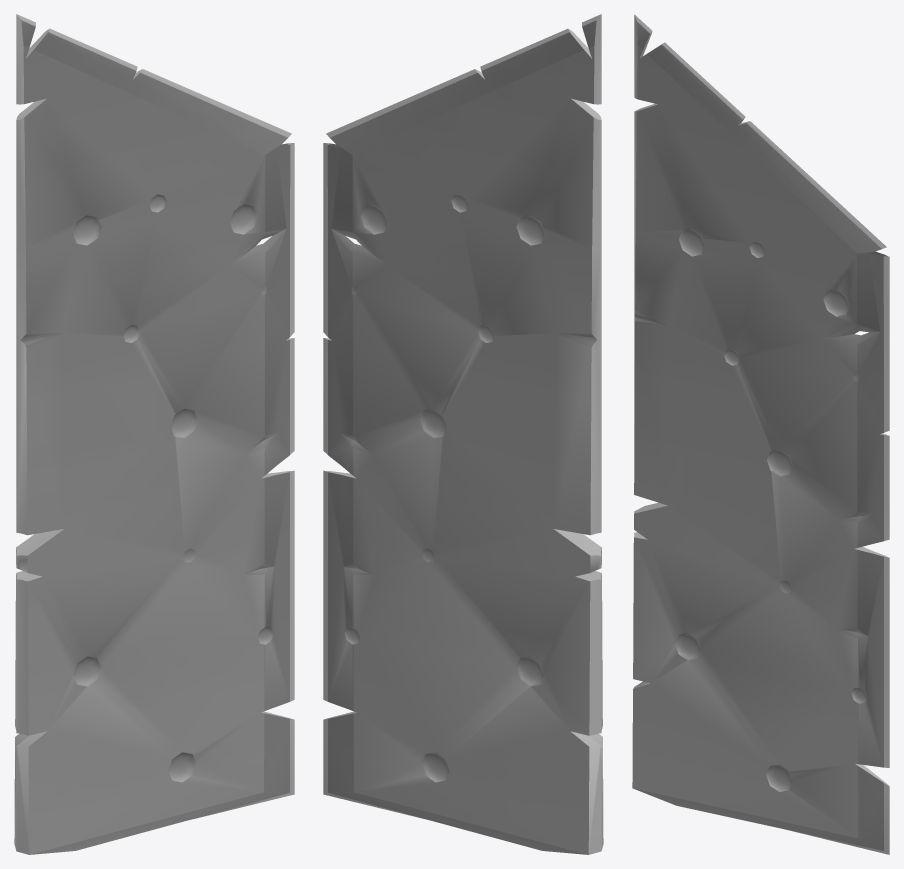
File: stone_blade_bubbles_057.glb
3 renders of one model, left to right at view 1: azimuth 30°, elevation 25°; view 2: azimuth 150°, elevation 25°; view 3: azimuth 330°, elevation 25°, orthographic. The views are drawn at different scales.
Parts seen in each view (by area): view 1: stone_blade_bubbles.057; view 2: stone_blade_bubbles.057; view 3: stone_blade_bubbles.057.
Part boxes in pixels (box(x1,y1,x2,y2)): stone_blade_bubbles.057: box(14, 14, 294, 854); stone_blade_bubbles.057: box(323, 14, 603, 854); stone_blade_bubbles.057: box(632, 14, 889, 854).
Bounding box in the file's own units: 4.06 × 11.85 × 0.374.
Materials: 1 (1 with a texture image).
